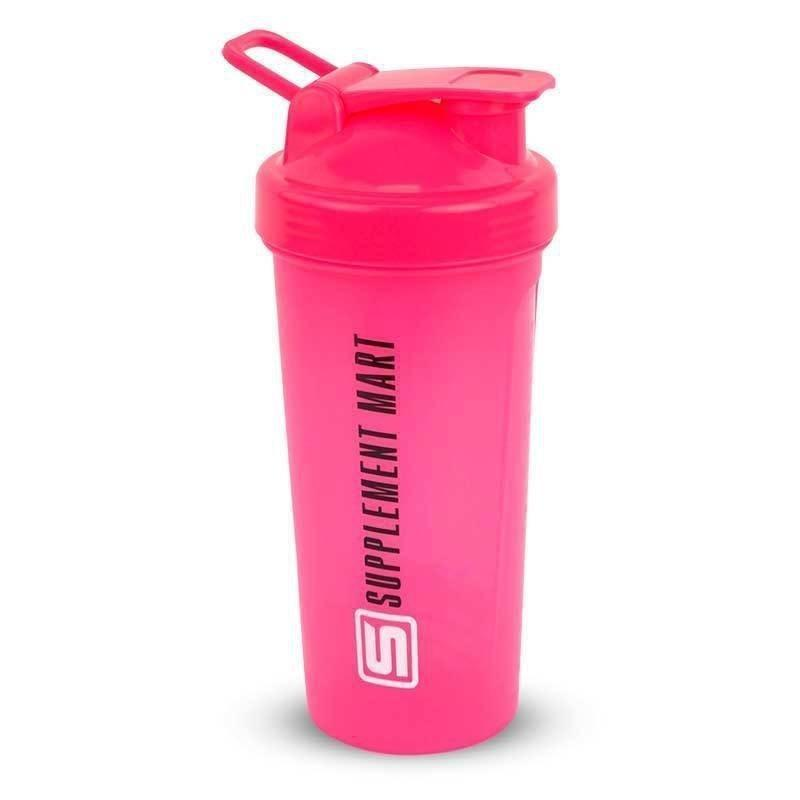gym bottle: (246, 50, 564, 761)
